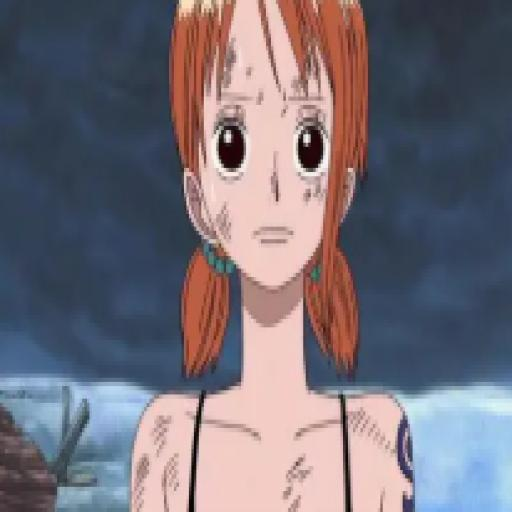Nami: (124, 0, 425, 512)
